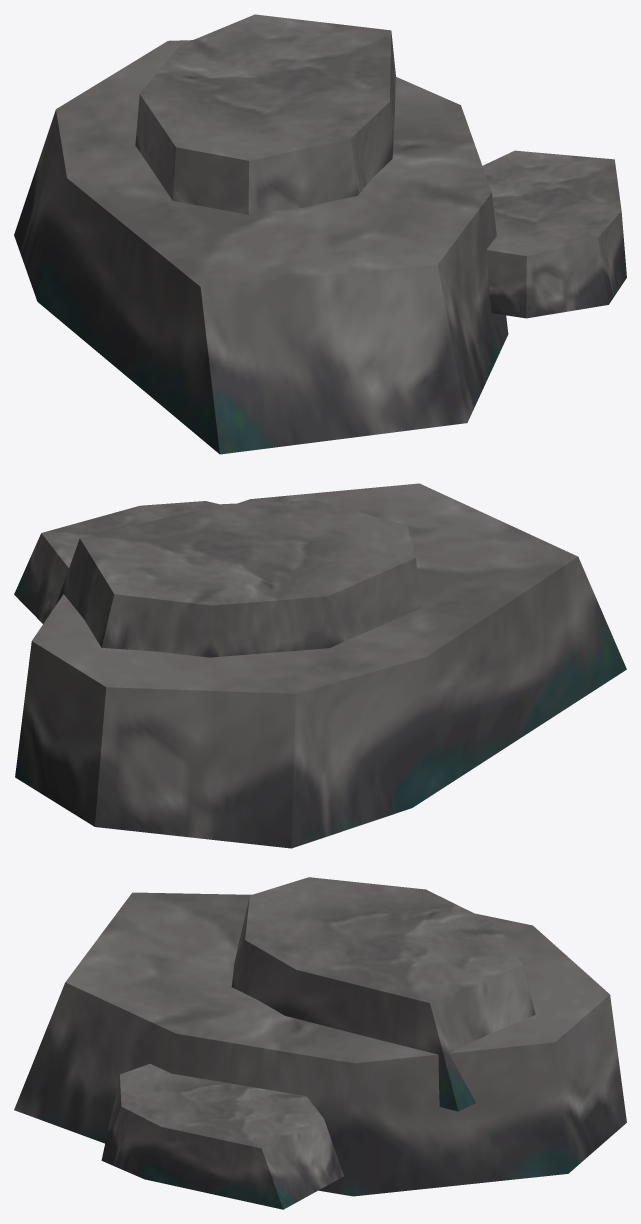
The model's file is sn_jjc_suishi02.FBX.
The picture shows the model from 3 angles, top to bottom: view 1: azimuth 30°, elevation 25°; view 2: azimuth 150°, elevation 25°; view 3: azimuth 270°, elevation 25°; orthographic projection. The views are drawn at different scales.
Visible parts, largest first — view 1: sn_jjc_suishi02; view 2: sn_jjc_suishi02; view 3: sn_jjc_suishi02.
Part boxes in pixels (left/top/right/bottom): sn_jjc_suishi02: left=14, top=14, right=626, bottom=454; sn_jjc_suishi02: left=14, top=483, right=626, bottom=848; sn_jjc_suishi02: left=14, top=877, right=626, bottom=1209.
Bounding box in the file's own units: 348 × 390 × 122.
